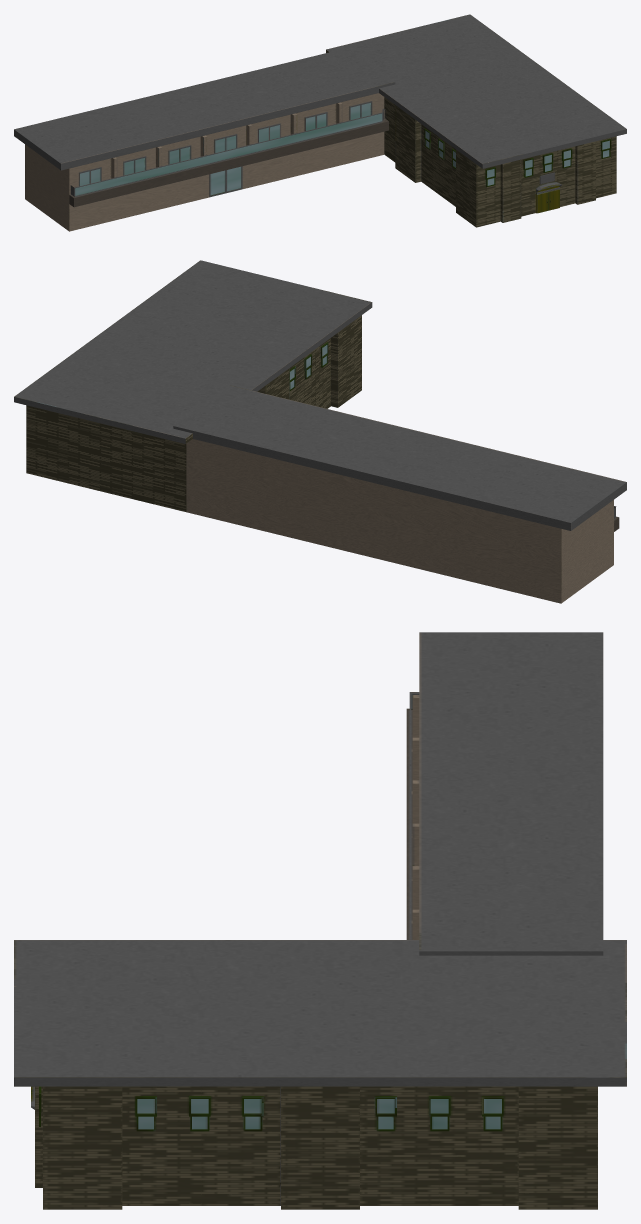
Rendered from PubHotelWithText.fbx.
3 views of the same model, one above another, from view 1: azimuth 30°, elevation 25°; view 2: azimuth 150°, elevation 25°; view 3: azimuth 270°, elevation 25° (orthographic). The views are drawn at different scales.
Visible parts, largest first — view 1: HotelBarBaked; view 2: HotelBarBaked; view 3: HotelBarBaked.
Boxes of the visible parts, left/top/right/bottom form: HotelBarBaked: left=14, top=14, right=626, bottom=231; HotelBarBaked: left=14, top=260, right=626, bottom=603; HotelBarBaked: left=14, top=632, right=626, bottom=1209.
Size of the model in its own units: 6013 by 885 by 3534.
